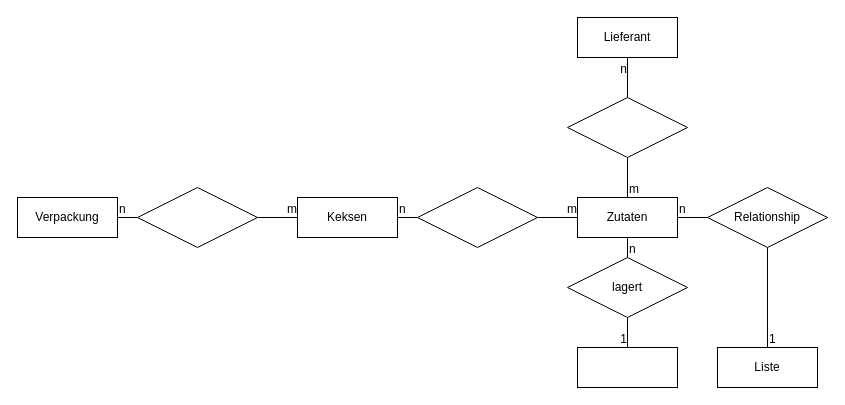
This 845x405 diagram has some shape labels left out. The shapes that lost their labels are listed below. From the top down, each one's box as (x1, y1, x2, y2) in pixels, then its label:
(566, 96, 688, 158): liefert
(136, 186, 258, 248): hat
(416, 186, 538, 248): hergestellt
(576, 346, 678, 388): Regal
